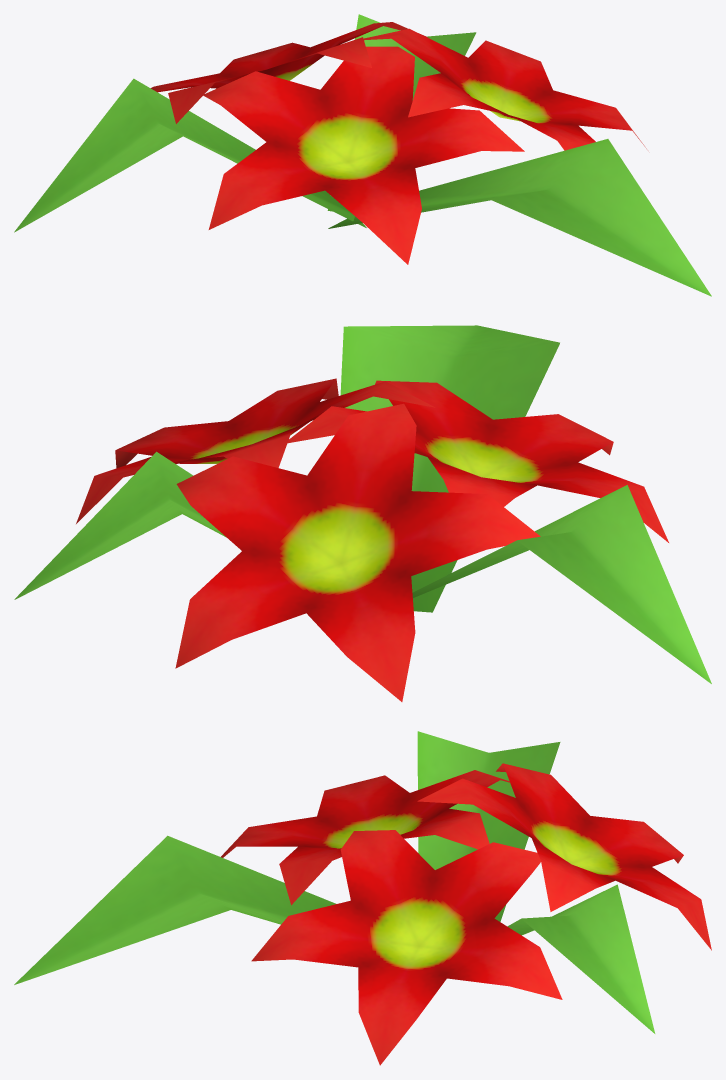
Rendered from Flower02.FBX.
3 views of the same model, one above another, from view 1: azimuth 30°, elevation 25°; view 2: azimuth 150°, elevation 25°; view 3: azimuth 270°, elevation 25° (orthographic). The views are drawn at different scales.
Parts seen in each view (by area): view 1: Flower02; view 2: Flower02; view 3: Flower02.
Part boxes in pixels (x1,y1,x2,y2): Flower02: (14, 14, 711, 296); Flower02: (14, 325, 711, 701); Flower02: (14, 731, 711, 1065).
Bounding box in the file's own units: 232 × 64.92 × 246.
